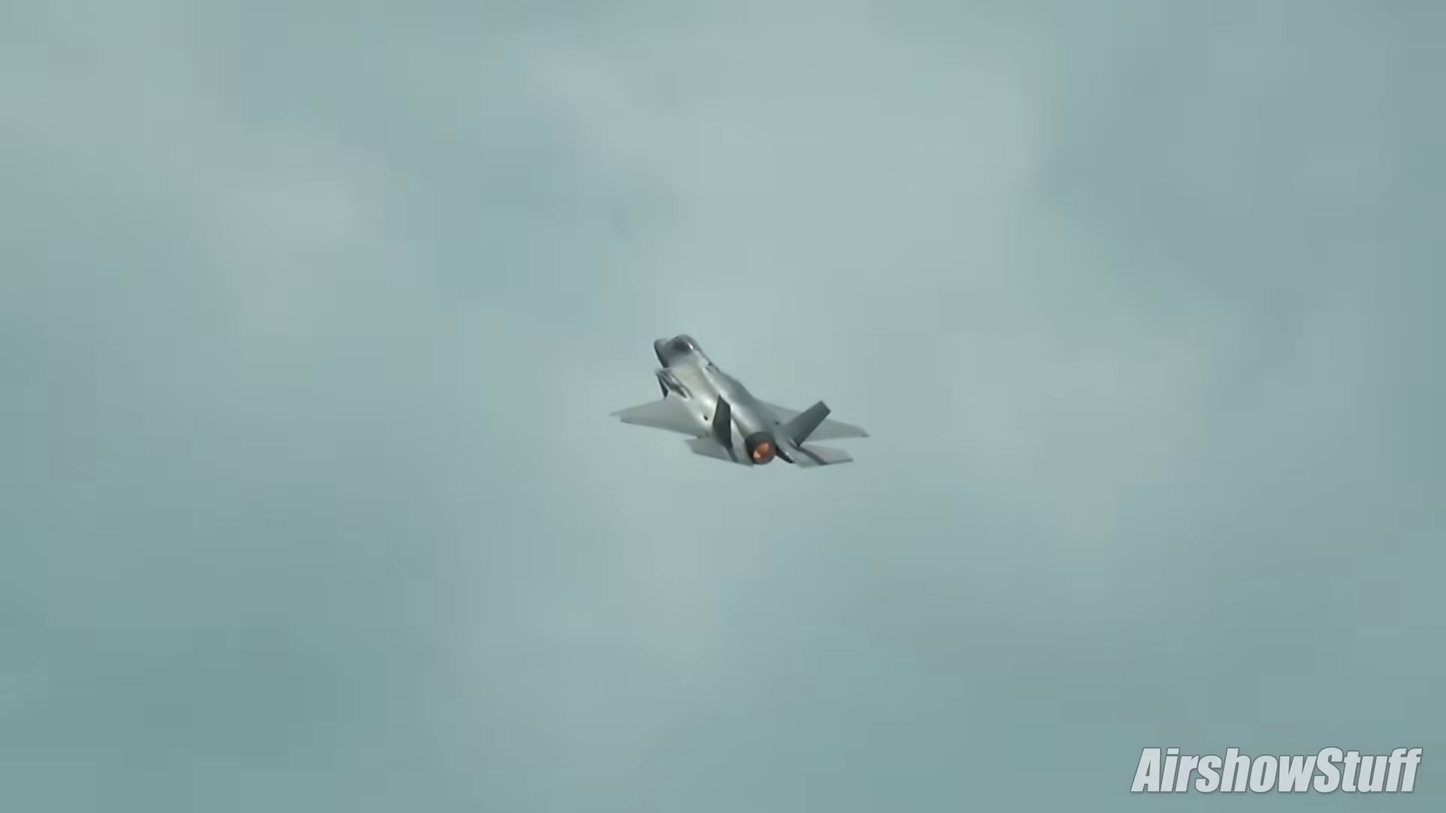F35: (599, 322, 876, 480)
